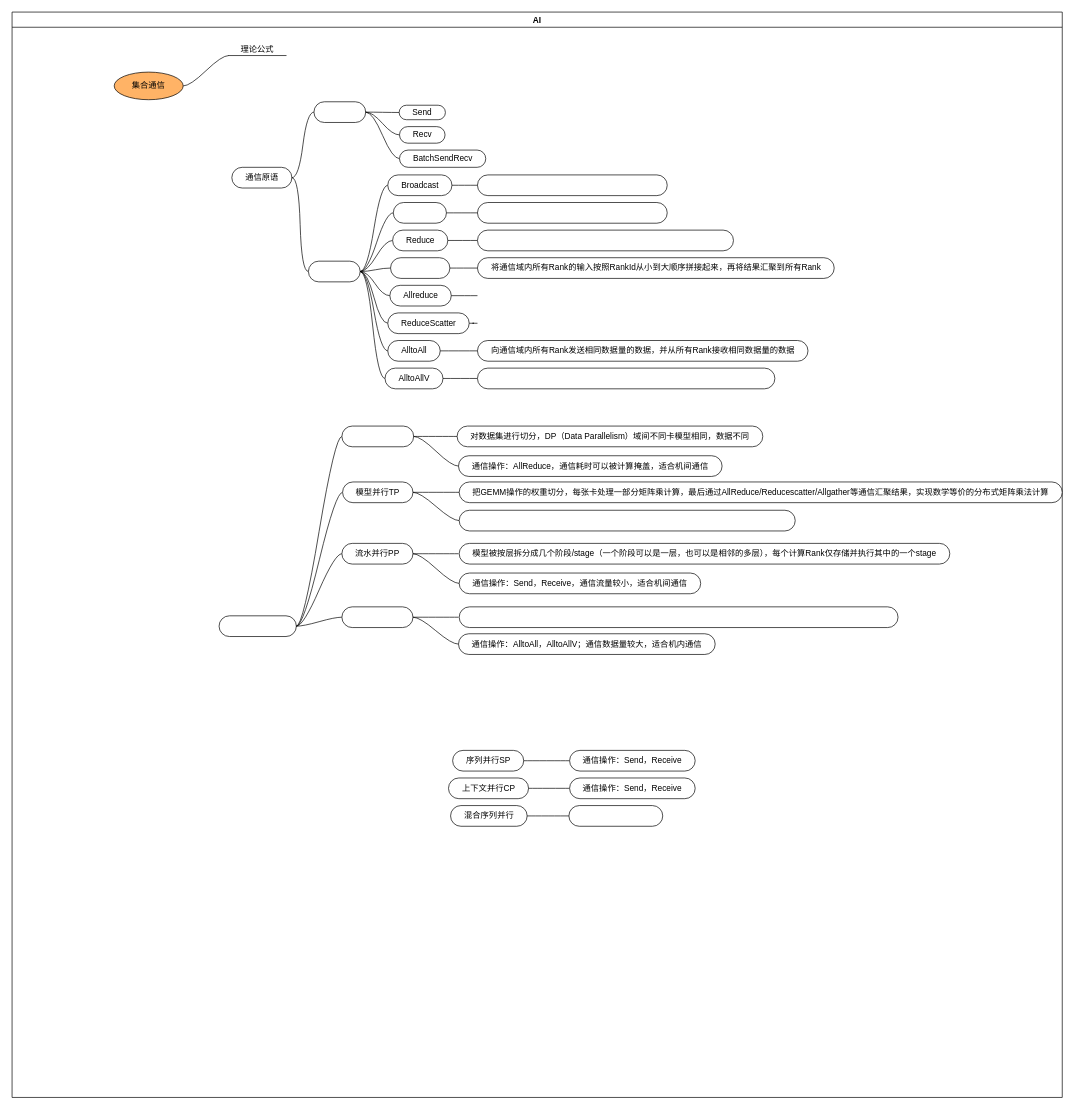
Image size: 1074x1110. Some labels were removed from this diagram. The shapes that lost their labels are listed below. From the top down, each one's box as (x1, y1, x2, y2) in pixels, then its label:
(313, 101, 366, 122): 一对一
(477, 174, 667, 196): 将通信域内root Rank的数据广播到其它Rank
(393, 202, 446, 223): Scatter
(477, 202, 667, 223): 将通信域内的root Rank数据均分到其它Rank
(477, 229, 733, 251): 将通信域内所有Rank的数据进行归约后，再发送到root Rank上
(308, 260, 360, 282): 一对多
(390, 257, 450, 278): Allgather
(477, 367, 775, 389): 向通信域内所有Rank发送数据，并从所有Rank接收数据，数据可以不相等
(341, 425, 414, 447): 数据并行DP
(459, 510, 795, 531): 通信操作：AllGather，ReduceScatter，AllReduce，通信数据量较大，适合机内通信
(218, 615, 296, 637): 分布式并行策略
(341, 606, 413, 628): 专家并行EP
(459, 606, 898, 628): 本质是“术业有专攻”。如果要解决一个涉及了多个领域知识的问题，则把这个问题按领域拆分开，使用AlltoAll原语
(568, 805, 663, 826): 通信操作：AlltoAll
